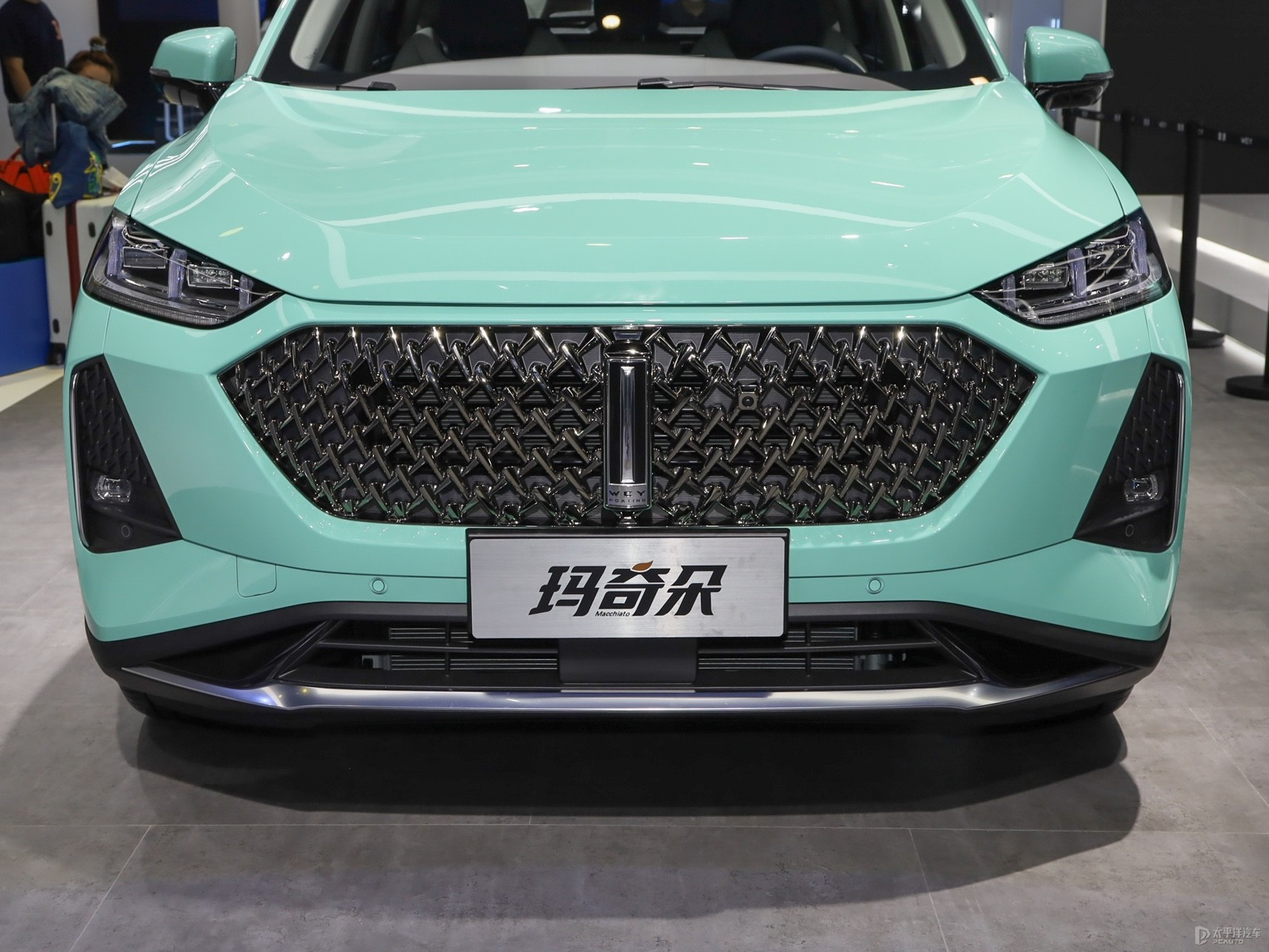WEY: (604, 359, 648, 508)
